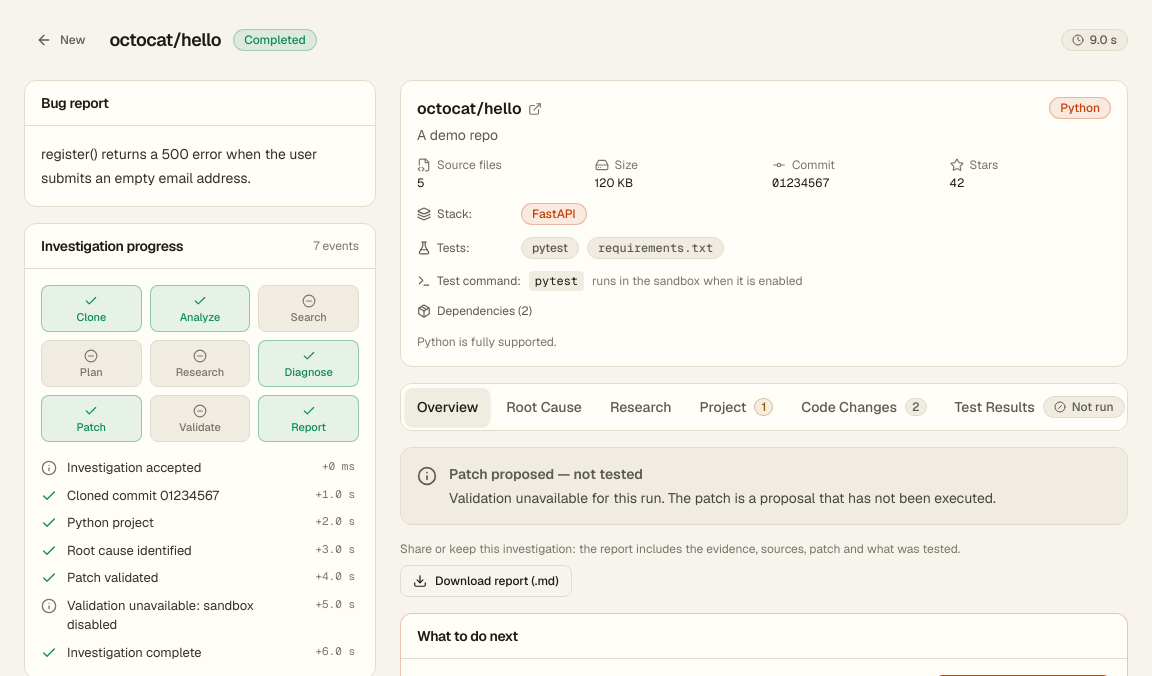
Scenario: Accept and reject changes › starts with every file undecided and nothing to download
Click the tab "Code Changes 2".
click(864, 407)  # box left=789, top=388, right=938, bottom=426
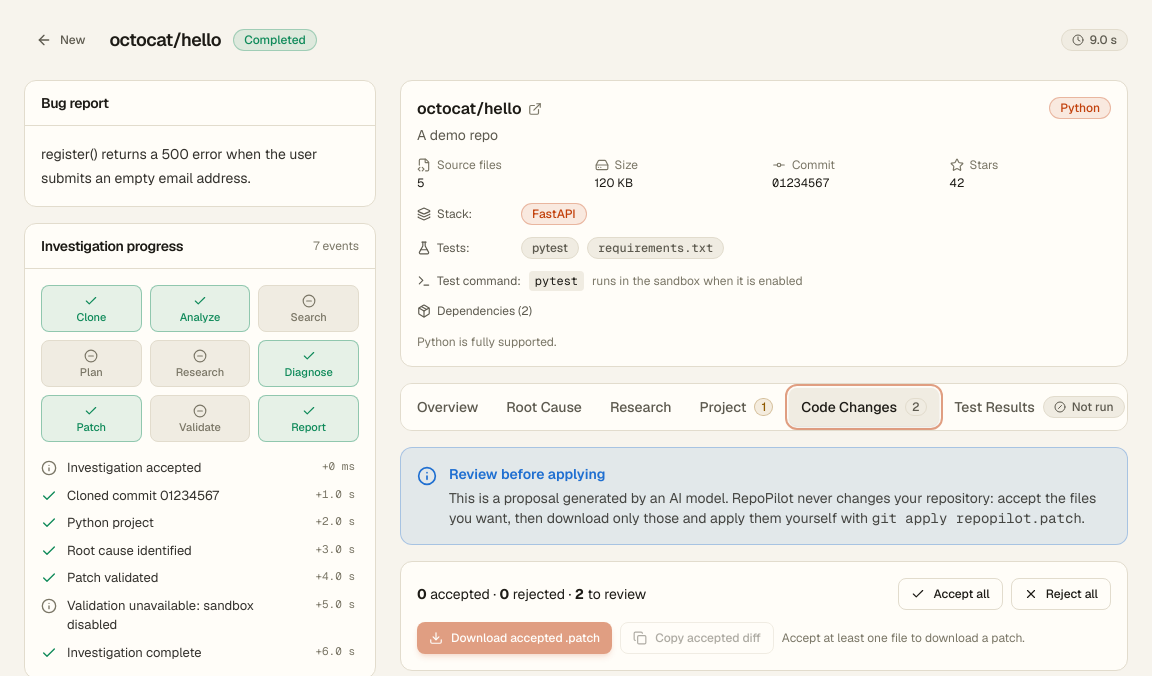
Expected: the text "0 accepted · 0 rejected · 2 to review" is shown, left=417, top=584, right=646, bottom=604
Expected: the button "Download accepted .patch" is disabled, left=417, top=622, right=612, bottom=654
Expected: the text "Accept at least one file to download a patch." is shown, left=782, top=630, right=1025, bottom=646
